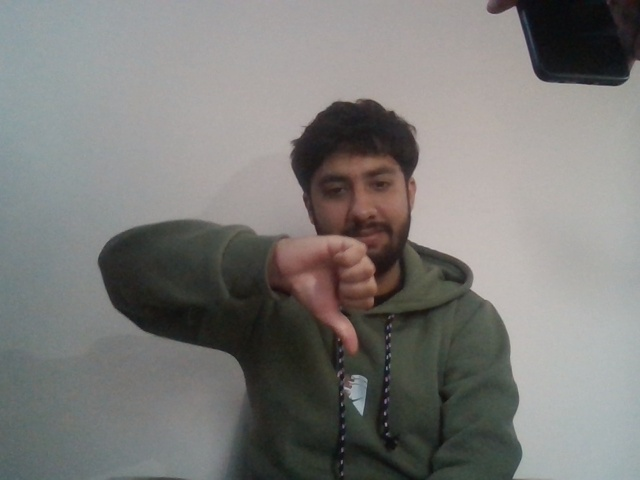No: (282, 226, 377, 357)
